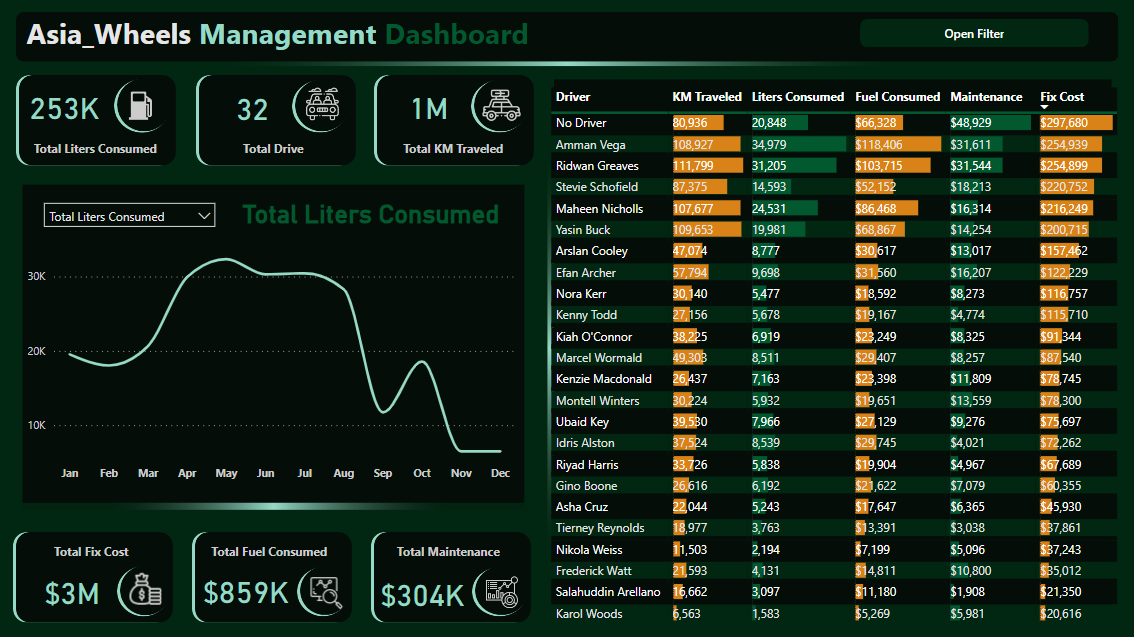

Layout of this report page (visuals, bound fields, positions):
{"tool":"powerbi","page":{"name":"Duplicate of Page 1","canvas":[1280,720],"ordinal":1},"visuals":[{"type":"tableEx","fields":{"Values":["Drivers_AsiaCargo Wheels.Driver","Measures Table.Total KM Traveled","Measures Table.Total Liters Consumed","Measures Table.Total Fuel Consumed","Measures Table.Total Maintenance","Measures Table.Total Fix Cost"]},"box":[617.5,85,642.5,616.2],"z":0},{"type":"lineChart","fields":{"Y":["Measures Table.Total Liters Consumed"],"Category":["DateTable.Months.Year","DateTable.Months.Month","DateTable.Months.Quarter"]},"box":[21.2,245.6,560,295],"z":1000},{"type":"slicer","fields":{"Values":["Switch Drivers Measures.Switch Drivers Measures"]},"box":[21.2,221.2,212.5,50],"z":2000},{"type":"card","fields":{"Values":["Measures Table.Total Liters Consumed"]},"box":[21.7,85,176.7,101.7],"z":3000},{"type":"card","fields":{"Values":["Measures Table.Total Drive"]},"box":[221.7,85,176.7,101.7],"z":4000},{"type":"card","fields":{"Values":["Measures Table.Total KM Traveled"]},"box":[421.7,85,176.7,101.7],"z":5000},{"type":"card","fields":{"Values":["Measures Table.Total Fix Cost"]},"box":[21.7,599.6,176.7,101.7],"z":6000},{"type":"card","fields":{"Values":["Measures Table.Total Fuel Consumed"]},"box":[221.7,599.6,176.7,101.7],"z":7000},{"type":"card","fields":{"Values":["Measures Table.Total Maintenance"]},"box":[421.2,600,177.5,101.2],"z":8000},{"type":"shape","box":[18.8,13.8,1241.2,71.2],"z":9000}]}

Visuals, with their boxes in screenshot pixels (x1, y1, x2, y2), scaled from the page's 1280x720 canvas onto the 1134x637 screenshot:
tableEx - Drivers_AsiaCargo Wheels.Driver x Measures Table.Total KM Traveled: crop(547, 75, 1116, 620)
lineChart - Measures Table.Total Liters Consumed x DateTable.Months.Year: crop(19, 217, 515, 478)
slicer - Switch Drivers Measures.Switch Drivers Measures: crop(19, 196, 207, 240)
card - Measures Table.Total Liters Consumed: crop(19, 75, 176, 165)
card - Measures Table.Total Drive: crop(196, 75, 353, 165)
card - Measures Table.Total KM Traveled: crop(374, 75, 530, 165)
card - Measures Table.Total Fix Cost: crop(19, 530, 176, 620)
card - Measures Table.Total Fuel Consumed: crop(196, 530, 353, 620)
card - Measures Table.Total Maintenance: crop(373, 531, 530, 620)
shape: crop(17, 12, 1116, 75)
